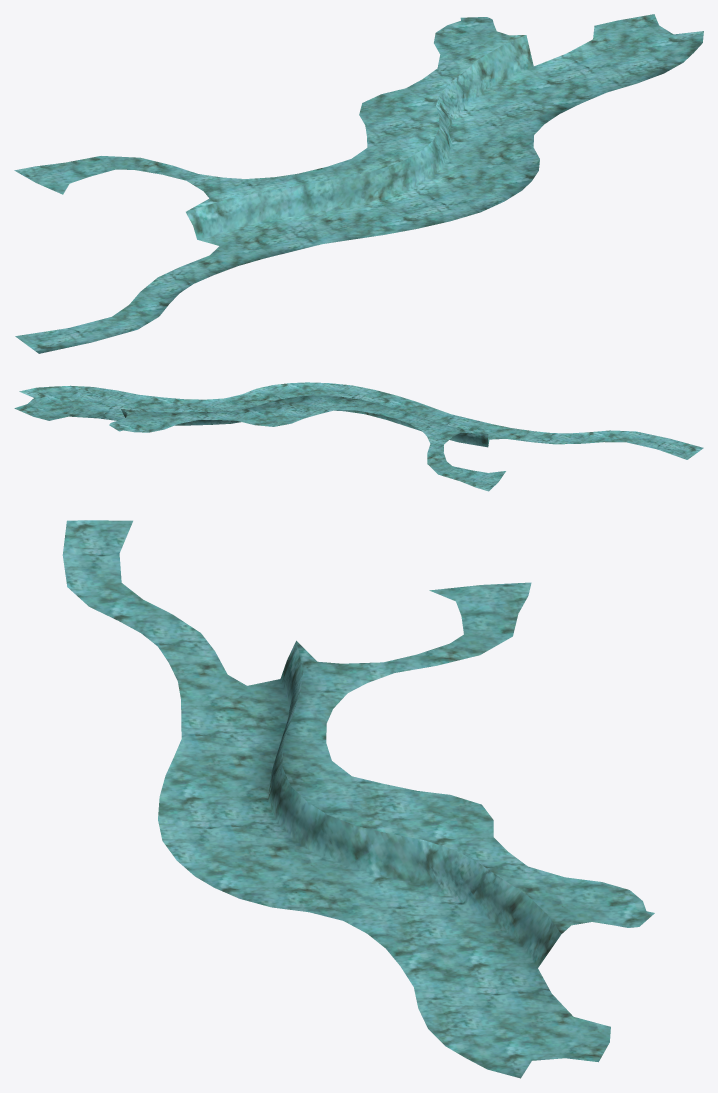
The model's file is EKH_GROTTO_PS_GR_GROTTO_RIVER_BOTTOM_01.fbx.
The picture shows the model from 3 angles, top to bottom: view 1: azimuth 30°, elevation 25°; view 2: azimuth 150°, elevation 25°; view 3: azimuth 270°, elevation 25°; orthographic projection. The views are drawn at different scales.
Parts seen in each view (by area): view 1: EKH_GROTTO_PS_GR_GROTTO_RIVER_BOTTOM_01; view 2: EKH_GROTTO_PS_GR_GROTTO_RIVER_BOTTOM_01; view 3: EKH_GROTTO_PS_GR_GROTTO_RIVER_BOTTOM_01.
Part boxes in pixels (x1,y1,x2,y2): EKH_GROTTO_PS_GR_GROTTO_RIVER_BOTTOM_01: (14, 14, 703, 353); EKH_GROTTO_PS_GR_GROTTO_RIVER_BOTTOM_01: (14, 382, 703, 491); EKH_GROTTO_PS_GR_GROTTO_RIVER_BOTTOM_01: (62, 520, 654, 1078).
Size of the model in its own units: 424037 by 12245 by 190295.
Materials: 1 (1 with a texture image).
